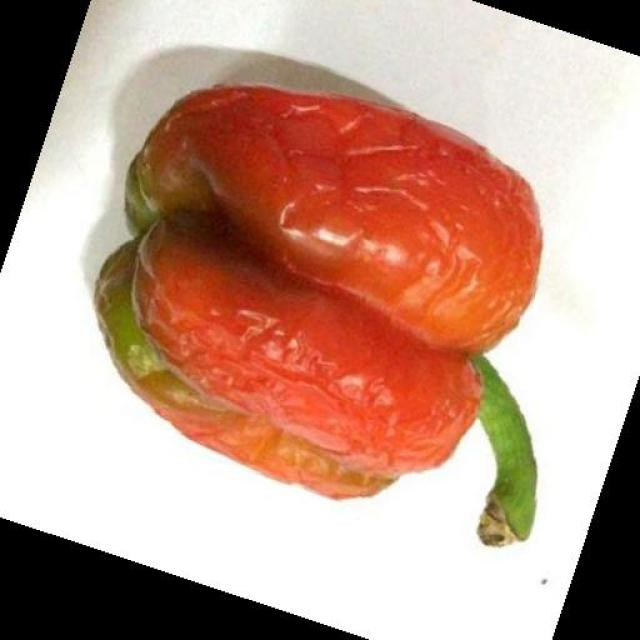Stale_Capsicum: (119, 44, 587, 545)
